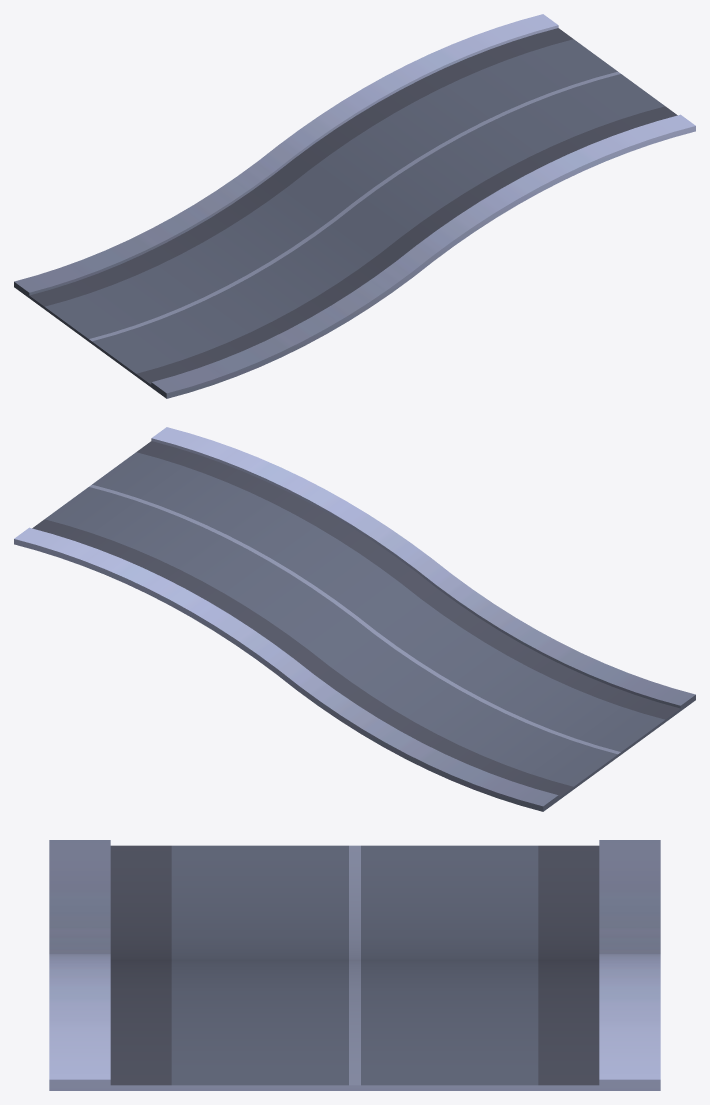
The model's file is road-slant-flat-curve.glb.
The picture shows the model from 3 angles, top to bottom: view 1: azimuth 30°, elevation 25°; view 2: azimuth 150°, elevation 25°; view 3: azimuth 270°, elevation 25°; orthographic projection. The views are drawn at different scales.
Parts seen in each view (by area): view 1: road-slant-flat-curve; view 2: road-slant-flat-curve; view 3: road-slant-flat-curve.
Boxes of the visible parts, x1,y1,x2,y2 form: road-slant-flat-curve: (14, 14, 695, 398); road-slant-flat-curve: (14, 427, 695, 811); road-slant-flat-curve: (49, 840, 660, 1090).
Bounding box in the file's own units: 2 × 0.52 × 1.
Materials: 1 (1 with a texture image).
